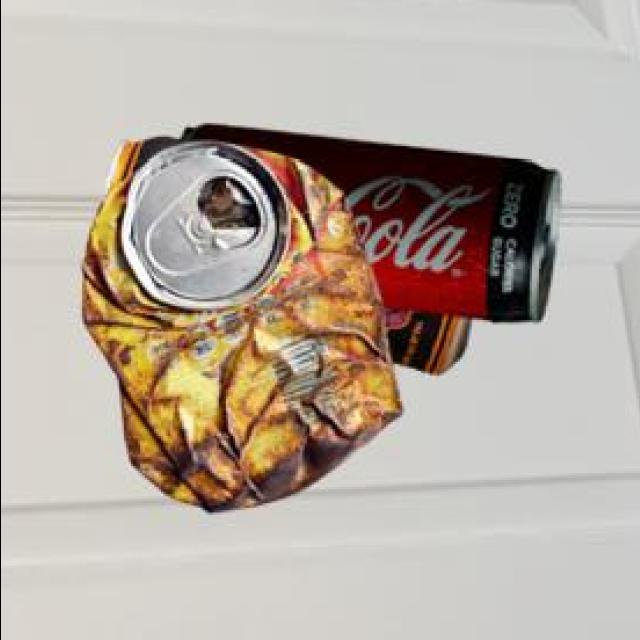logam: (78, 145, 400, 516), (99, 140, 467, 379), (173, 129, 555, 326)
